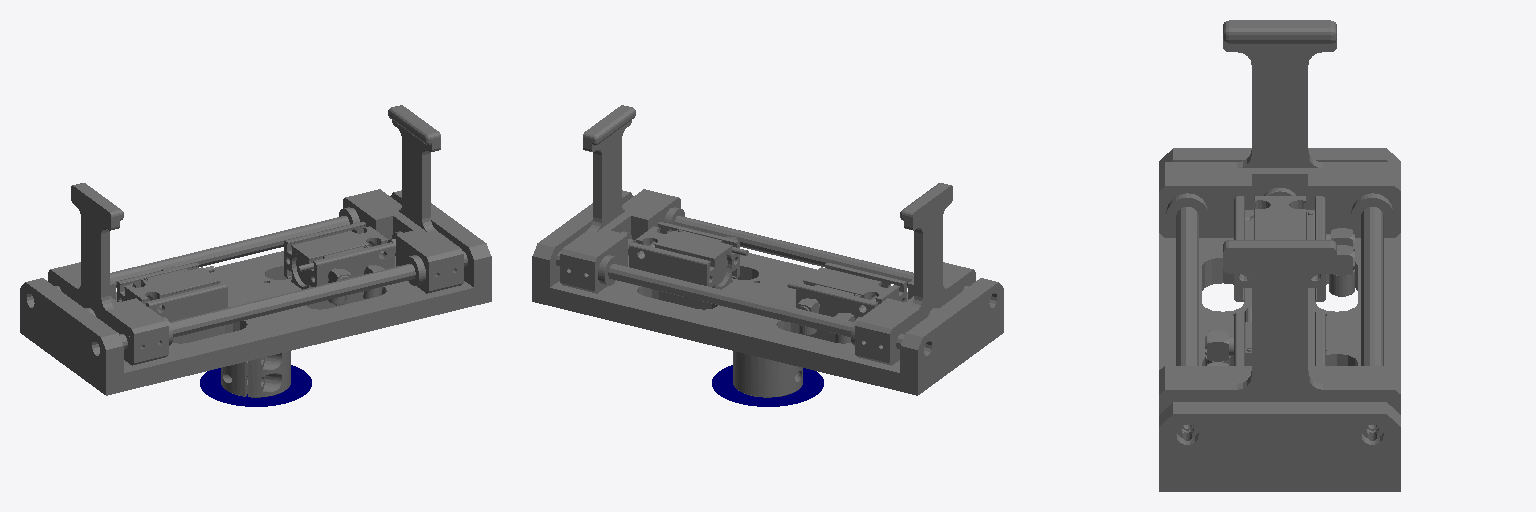
URDF robot description (end_effector_s.SLDASM):
<?xml version="1.0" encoding="utf-8"?>
<!-- This URDF was automatically created by SolidWorks to URDF Exporter! Originally created by [author] ([email redacted]) 
     Commit Version: 1.6.0-4-g7f85cfe  Build Version: 1.6.7995.38578
     For more information, please see http://wiki.ros.org/sw_urdf_exporter -->
<robot
  name="end_effector_s.SLDASM">
  <link
    name="e_in">
    <inertial>
      <origin
        xyz="-0.00013632 -0.00018091 0.054387"
        rpy="0 0 0" />
      <mass
        value="1.1173" />
      <inertia
        ixx="0.0010053"
        ixy="3.4757E-05"
        ixz="1.2559E-06"
        iyy="0.0070466"
        iyz="1.9517E-07"
        izz="0.0072069" />
    </inertial>
    <visual>
      <origin
        xyz="0 0 0"
        rpy="0 0 0" />
      <geometry>
        <mesh
          filename="package://end_effector_s.SLDASM/meshes/e_in.STL" />
      </geometry>
      <material
        name="blue">
        <color
          rgba="0 0 0.5 1" />
      </material>
    </visual>
    <collision>
      <origin
        xyz="0 0 0"
        rpy="0 0 0" />
      <geometry>
        <mesh
          filename="package://end_effector_s.SLDASM/meshes/e_in.STL" />
      </geometry>
    </collision>
  </link>
  <link
    name="e_body">
    <inertial>
      <origin
        xyz="-0.00013632 -0.00018091 0.054387"
        rpy="0 0 0" />
      <mass
        value="1.1173" />
      <inertia
        ixx="0.00074573"
        ixy="9.4322E-08"
        ixz="4.1405E-08"
        iyy="0.0021948"
        iyz="1.351E-07"
        izz="0.0025137" />
    </inertial>
    <visual>
      <origin
        xyz="0 0 0"
        rpy="0 0 0" />
      <geometry>
        <mesh
          filename="package://end_effector_s.SLDASM/meshes/e_body.STL" />
      </geometry>
      <material
        name="body">
        <color
          rgba="0.5 0.5 0.5 1" />
      </material>
    </visual>
    <collision>
      <origin
        xyz="0 0 0"
        rpy="0 0 0" />
      <geometry>
        <mesh
          filename="package://end_effector_s.SLDASM/meshes/e_body.STL" />
      </geometry>
    </collision>
  </link>
  <joint
    name="e_small"
    type="fixed">
    <origin
      xyz="0 0 0"
      rpy="0 0 0" />
    <parent
      link="e_in" />
    <child
      link="e_body" />
    <axis
      xyz="0 0 0" />
  </joint>
</robot>

--- Render facts (derived) ---
3 views of the same robot in one strip: view 1: azimuth 30°, elevation 25°; view 2: azimuth 150°, elevation 25°; view 3: azimuth 270°, elevation 25° (orthographic).
Model end_effector_s.SLDASM with 2 links and 1 joints (1 fixed), rooted at e_in, posed every joint at zero.
Visible links, largest first — view 1: e_body, e_in; view 2: e_body, e_in; view 3: e_body.
Link boxes in pixels (left/top/right/bottom): e_body: left=20, top=105, right=491, bottom=397; e_in: left=200, top=365, right=311, bottom=406; e_body: left=532, top=105, right=1003, bottom=397; e_in: left=712, top=365, right=823, bottom=406; e_body: left=1159, top=20, right=1400, bottom=491.
Size in the robot's own frame: 0.221 by 0.085 by 0.123 metres.
Meshes: 2 distinct files referenced, 2 mesh visuals loaded (2 binary STL).